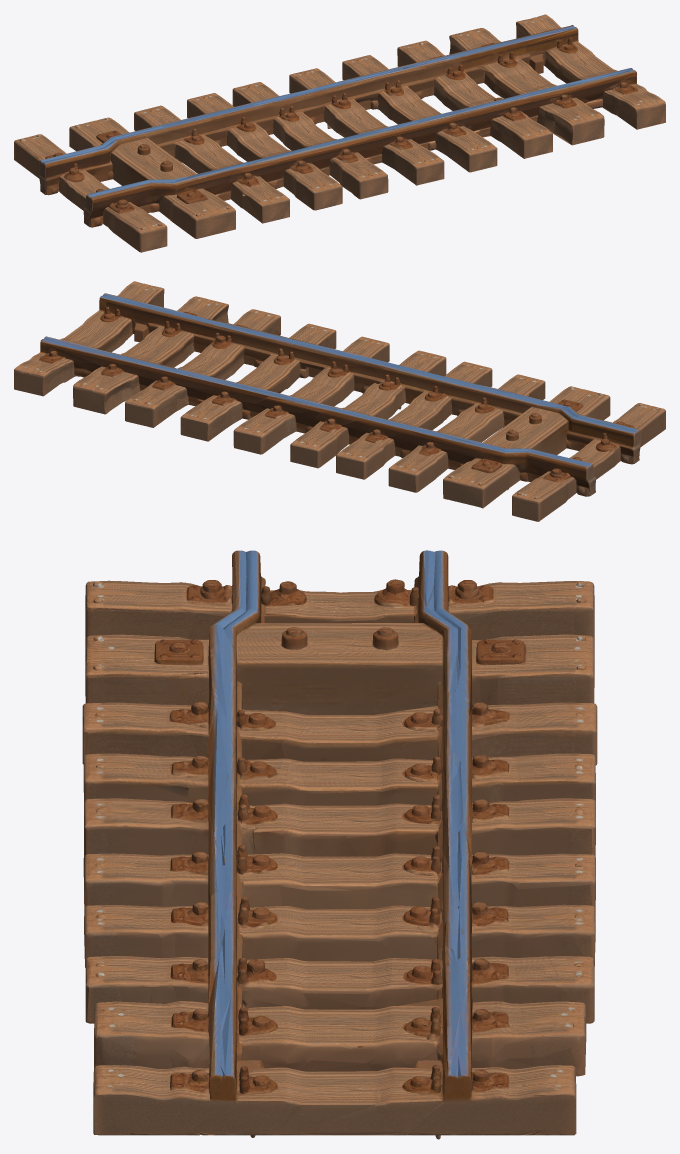
File: rail_track_section.glb
3 views of the same model, one above another, from view 1: azimuth 30°, elevation 25°; view 2: azimuth 150°, elevation 25°; view 3: azimuth 270°, elevation 25° (orthographic). The views are drawn at different scales.
Size of the model in its own units: 1.9 by 0.145 by 0.785.
1 material, 1 textured.
